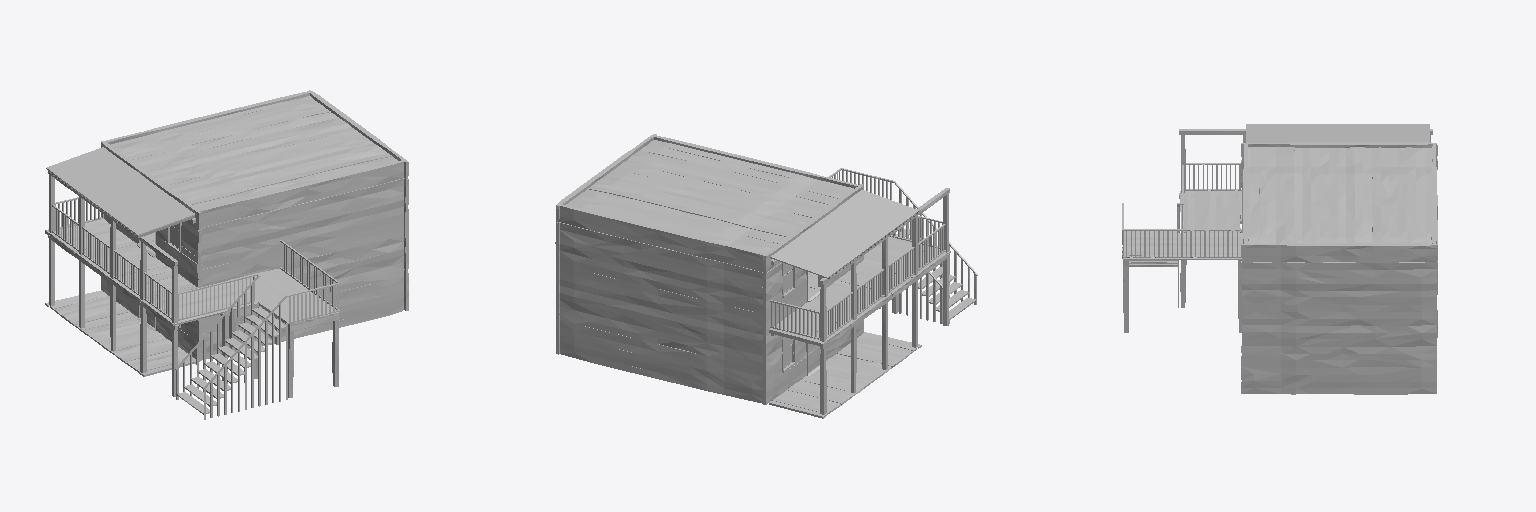
File: Hotel_LOD1.obj
3 views of the same model, side by side, from view 1: azimuth 30°, elevation 25°; view 2: azimuth 150°, elevation 25°; view 3: azimuth 270°, elevation 25° (orthographic).
Parts seen in each view (by area): view 1: WildWest_Hotel, WildWest_Hotel_Floor, WildWest_Hotel_Railing, WildWest_Hotel_Porch; view 2: WildWest_Hotel, WildWest_Hotel_Floor, WildWest_Hotel_Porch, WildWest_Hotel_Railing; view 3: WildWest_Hotel, WildWest_Hotel_Floor, WildWest_Hotel_Porch, WildWest_Hotel_Railing.
Part boxes in pixels (x1,y1,x2,y2): WildWest_Hotel: (101, 90, 408, 361); WildWest_Hotel_Floor: (111, 96, 401, 360); WildWest_Hotel_Railing: (48, 171, 340, 419); WildWest_Hotel_Porch: (45, 147, 340, 376); WildWest_Hotel: (555, 134, 863, 404); WildWest_Hotel_Floor: (566, 140, 853, 402); WildWest_Hotel_Porch: (769, 190, 950, 418); WildWest_Hotel_Railing: (770, 168, 977, 414); WildWest_Hotel: (1241, 142, 1437, 394); WildWest_Hotel_Floor: (1248, 147, 1431, 394); WildWest_Hotel_Porch: (1122, 124, 1429, 260); WildWest_Hotel_Railing: (1122, 129, 1432, 332).
Size of the model in its own units: 11.7 by 6.28 by 11.85.